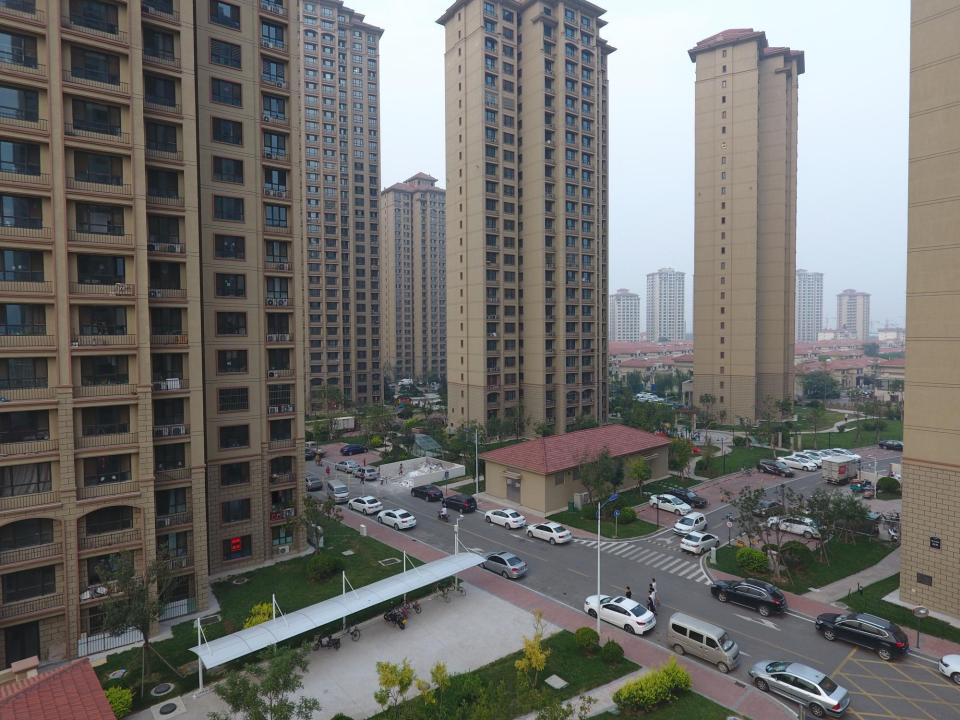car: (748, 660, 851, 718), (815, 612, 910, 660), (584, 594, 656, 636), (711, 579, 788, 616), (478, 550, 528, 580), (767, 514, 827, 538), (526, 522, 572, 546), (680, 530, 721, 555), (484, 508, 526, 530), (650, 493, 692, 515), (673, 511, 708, 536), (377, 509, 417, 530), (756, 459, 796, 477), (348, 495, 383, 515), (668, 490, 708, 507), (751, 499, 785, 519), (442, 494, 476, 513), (777, 455, 817, 471), (939, 654, 960, 684), (411, 484, 443, 502), (791, 452, 822, 468), (352, 466, 379, 481), (832, 448, 862, 461), (335, 460, 360, 474), (340, 444, 368, 455), (880, 440, 906, 451), (803, 450, 831, 460), (306, 475, 322, 491), (820, 450, 844, 456), (397, 411, 412, 418), (305, 448, 313, 460), (646, 397, 661, 403), (651, 396, 665, 402), (636, 392, 648, 398), (637, 398, 651, 402), (794, 396, 803, 402), (644, 393, 657, 397), (431, 386, 440, 391), (418, 381, 428, 385), (384, 380, 391, 385)
truck: (821, 454, 859, 484), (305, 441, 327, 457)
van: (666, 611, 740, 673), (326, 480, 349, 505), (398, 378, 413, 386), (676, 404, 684, 410), (388, 385, 396, 391), (431, 382, 436, 386)
